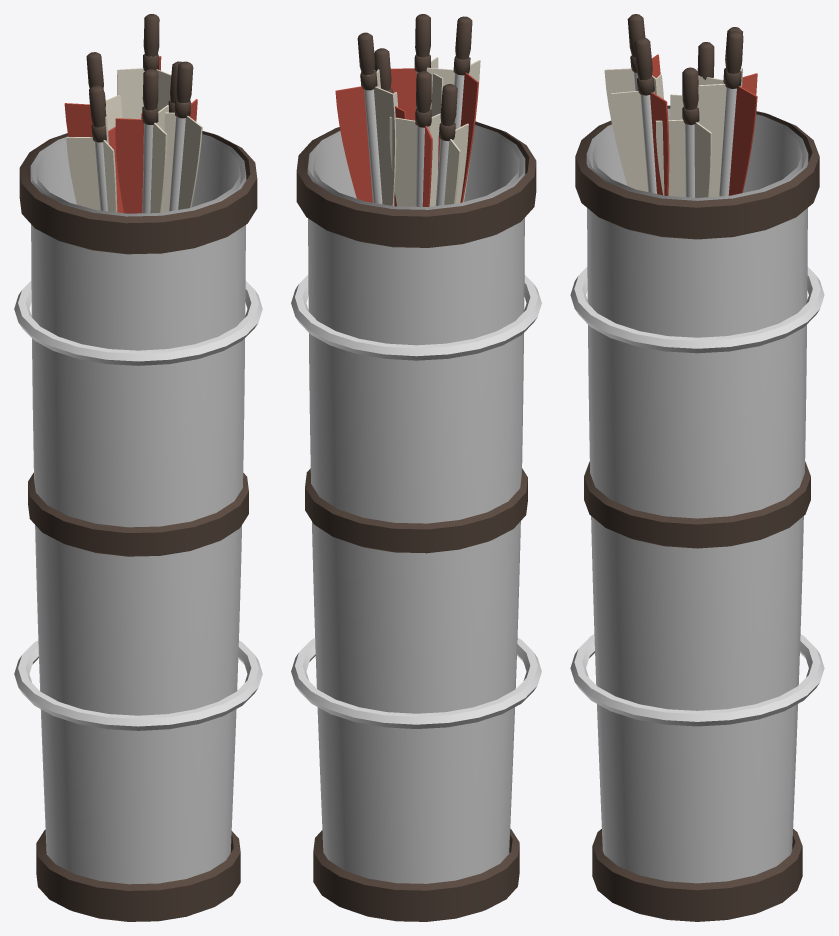
The model's file is TungSahur_Quiver.fbx.
3 renders of one model, left to right at view 1: azimuth 30°, elevation 25°; view 2: azimuth 150°, elevation 25°; view 3: azimuth 270°, elevation 25°, orthographic. The views are drawn at different scales.
Visible parts, largest first — view 1: TungSahur_Quiver; view 2: TungSahur_Quiver; view 3: TungSahur_Quiver.
Part boxes in pixels (bbox=[...]): TungSahur_Quiver: bbox=[14, 14, 262, 921]; TungSahur_Quiver: bbox=[291, 14, 541, 921]; TungSahur_Quiver: bbox=[570, 14, 824, 921].
Size of the model in its own units: 0.179 by 0.6712 by 0.179.
